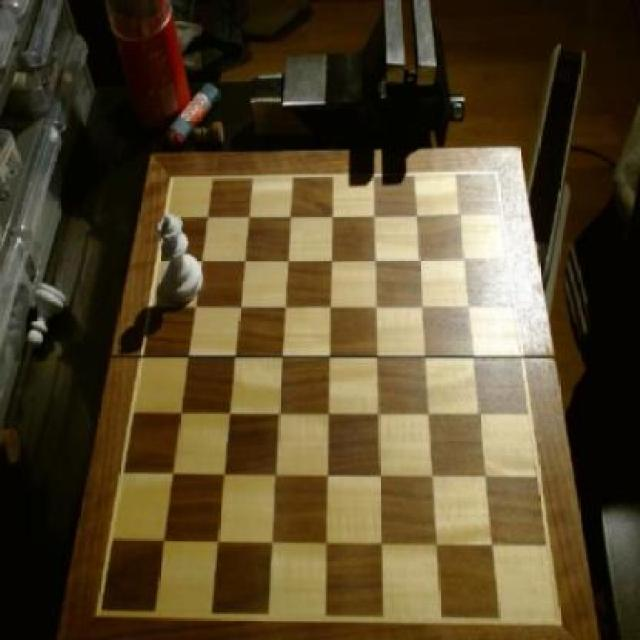white-pawn: (157, 214, 205, 302)
